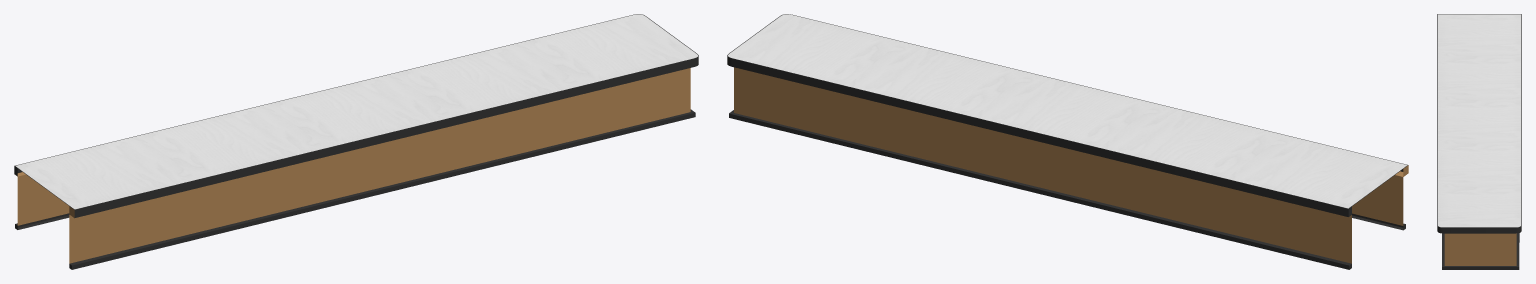
File: Meson.FBX
3 renders of one model, left to right at view 1: azimuth 30°, elevation 25°; view 2: azimuth 150°, elevation 25°; view 3: azimuth 270°, elevation 25°, orthographic. The views are drawn at different scales.
Visible parts, largest first — view 1: Box007; view 2: Box007; view 3: Box007.
Boxes of the visible parts, x1,y1,x2,y2 form: Box007: [14, 14, 698, 269]; Box007: [727, 14, 1408, 269]; Box007: [1437, 14, 1521, 269].
Bounding box in the file's own units: 1059 × 176 × 100.
